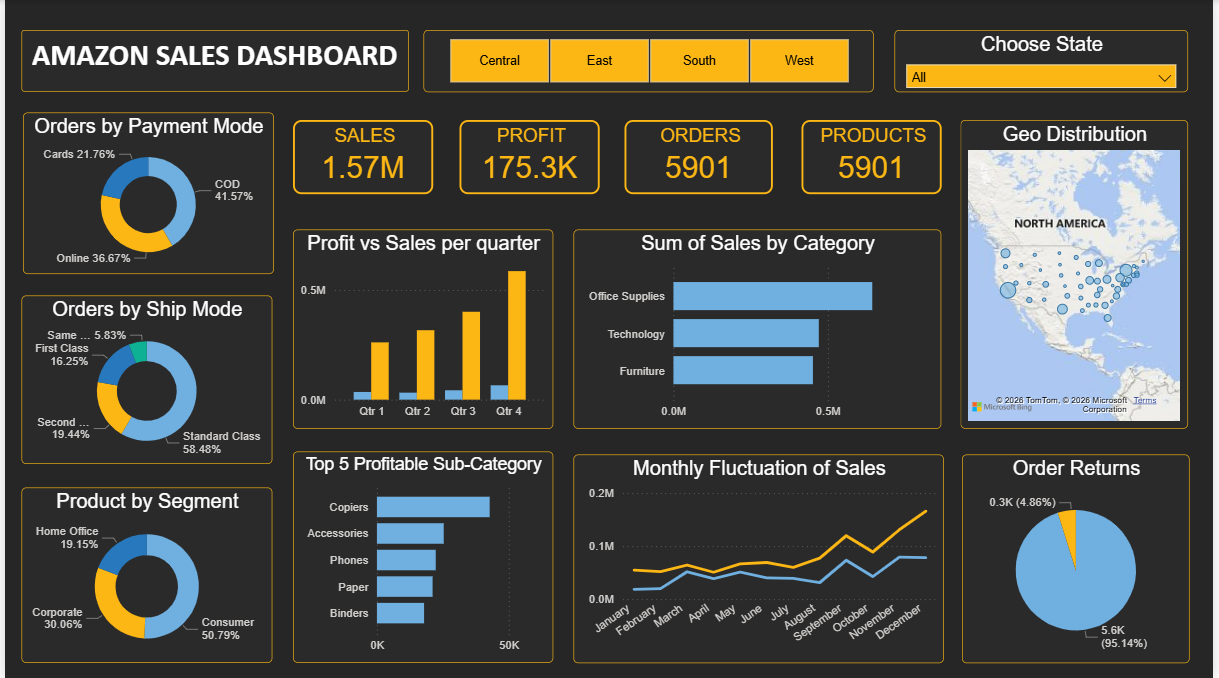

This screenshot's page, from the dashboard's own definition file:
{"tool":"powerbi","page":{"name":"Page 1","canvas":[1280,720],"ordinal":0},"visuals":[{"type":"clusteredBarChart","fields":{"Category":["Sheet1 (2).Category"],"Y":["Sum(Sheet1 (2).Sales)"]},"box":[602.9,242.9,390,211.4],"z":0},{"type":"clusteredBarChart","title":"Top 5 Profitable Sub-Category","fields":{"Category":["Sheet1 (2).Sub-Category"],"Y":["Sum(Sheet1 (2).Profit)"]},"box":[305.7,478.6,275.7,224.3],"z":1000},{"type":"donutChart","title":"Orders by Payment Mode","fields":{"Category":["Sheet1 (2).Payment Mode"],"Y":["CountNonNull(Sheet1 (2).Order ID)"]},"box":[18.6,120,265.7,171.4],"z":2000},{"type":"donutChart","title":"Product by Segment","fields":{"Y":["CountNonNull(Sheet1 (2).Product ID)"],"Category":["Sheet1 (2).Segment"]},"box":[17.1,517.1,265.7,185.7],"z":3000},{"type":"donutChart","title":"Orders by Ship Mode","fields":{"Category":["Sheet1 (2).Ship Mode","Sheet1 (2).Payment Mode"],"Y":["CountNonNull(Sheet1 (2).Order ID)"]},"box":[17.1,312.9,265.7,178.6],"z":4000},{"type":"map","title":"Geo Distribution","fields":{"Category":["Sheet1 (2).State"],"Size":["Sum(Sheet1 (2).Sales)"]},"box":[1012.9,127.1,241.4,327.1],"z":5000},{"type":"pieChart","title":"Order Returns","fields":{"Category":["Sheet1 (2).Returns"],"Y":["CountNonNull(Sheet1 (2).Order ID)"]},"box":[1014.3,481.4,241.4,221.4],"z":6000},{"type":"lineChart","title":"Monthly Fluctuation of Sales","fields":{"Category":["Sheet1 (2).Order Date.Variation.Date Hierarchy.Month"],"Y":["Sum(Sheet1 (2).Sales)"],"Series":["Sheet1 (2).Order Date.Variation.Date Hierarchy.Year"]},"box":[602.9,481.4,392.9,221.4],"z":7000},{"type":"clusteredColumnChart","title":"Profit vs Sales per quarter","fields":{"Category":["Sheet1 (2).Order Date.Variation.Date Hierarchy.Quarter"],"Y":["Sum(Sheet1 (2).Profit)","Sum(Sheet1 (2).Sales)"]},"box":[305.7,242.9,275.7,211.4],"z":8000},{"type":"slicer","fields":{"Values":["Sheet1 (2).Region"]},"box":[444.3,31.4,477.1,65.7],"z":9000},{"type":"slicer","title":"Choose State","fields":{"Values":["Sheet1 (2).State"]},"box":[942.9,31.4,311.4,65.7],"z":10000},{"type":"card","title":"SALES","fields":{"Values":["Sum(Sheet1 (2).Sales)"]},"box":[305.7,127.1,148.6,78.6],"z":11000},{"type":"card","title":"PROFIT","fields":{"Values":["Sum(Sheet1 (2).Profit)"]},"box":[481.4,127.1,148.6,78.6],"z":12000},{"type":"card","title":"ORDERS","fields":{"Values":["CountNonNull(Sheet1 (2).Order ID)"]},"box":[657.1,127.1,157.1,78.6],"z":13000},{"type":"card","title":"PRODUCTS","fields":{"Values":["CountNonNull(Sheet1 (2).Product ID)"]},"box":[844.3,127.1,148.6,78.6],"z":14000},{"type":"textbox","box":[17.5,31.8,410.4,65.2],"z":15000}]}

Visuals, with their boxes in screenshot pixels (x1, y1, x2, y2), scaled from the page's 1280x720 canvas onto the 1219x678 screenshot:
clusteredBarChart - Sheet1 (2).Category x Sum(Sheet1 (2).Sales): x1=574, y1=229, x2=946, y2=428
"Top 5 Profitable Sub-Category" clusteredBarChart: x1=291, y1=451, x2=554, y2=662
"Orders by Payment Mode" donutChart: x1=18, y1=113, x2=271, y2=274
"Product by Segment" donutChart: x1=16, y1=487, x2=269, y2=662
"Orders by Ship Mode" donutChart: x1=16, y1=295, x2=269, y2=463
"Geo Distribution" map: x1=965, y1=120, x2=1195, y2=428
"Order Returns" pieChart: x1=966, y1=453, x2=1196, y2=662
"Monthly Fluctuation of Sales" lineChart: x1=574, y1=453, x2=948, y2=662
"Profit vs Sales per quarter" clusteredColumnChart: x1=291, y1=229, x2=554, y2=428
slicer - Sheet1 (2).Region: x1=423, y1=30, x2=877, y2=91
"Choose State" slicer: x1=898, y1=30, x2=1195, y2=91
"SALES" card: x1=291, y1=120, x2=433, y2=194
"PROFIT" card: x1=458, y1=120, x2=600, y2=194
"ORDERS" card: x1=626, y1=120, x2=775, y2=194
"PRODUCTS" card: x1=804, y1=120, x2=946, y2=194
textbox: x1=17, y1=30, x2=408, y2=91
